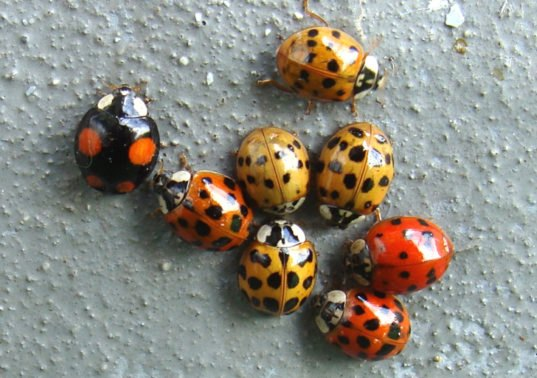red: (343, 215, 454, 295), (275, 26, 383, 104), (316, 120, 393, 228), (237, 220, 319, 318), (158, 168, 252, 253), (313, 286, 412, 361), (235, 127, 310, 213)
two_spots_mutant: (72, 85, 158, 194)
